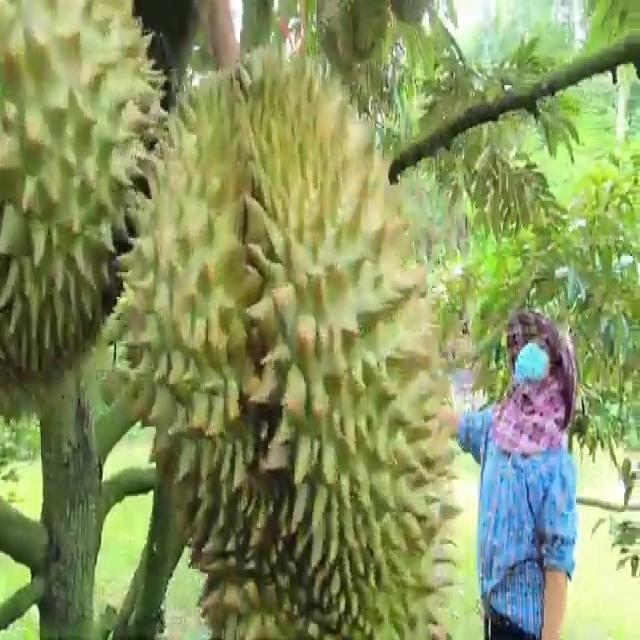durian: (99, 37, 466, 638), (0, 0, 172, 391)
